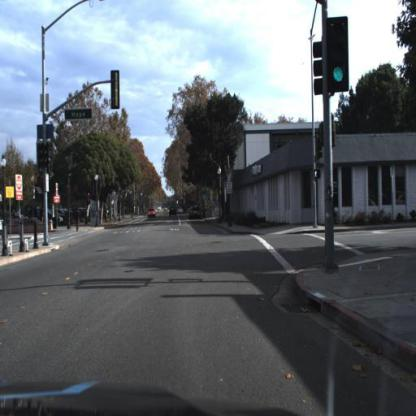car: (187, 206, 204, 222), (166, 204, 182, 220), (149, 209, 157, 219)
pedestrian: (74, 205, 82, 235), (74, 206, 83, 232)
trafficLight-Green: (324, 16, 352, 95)
